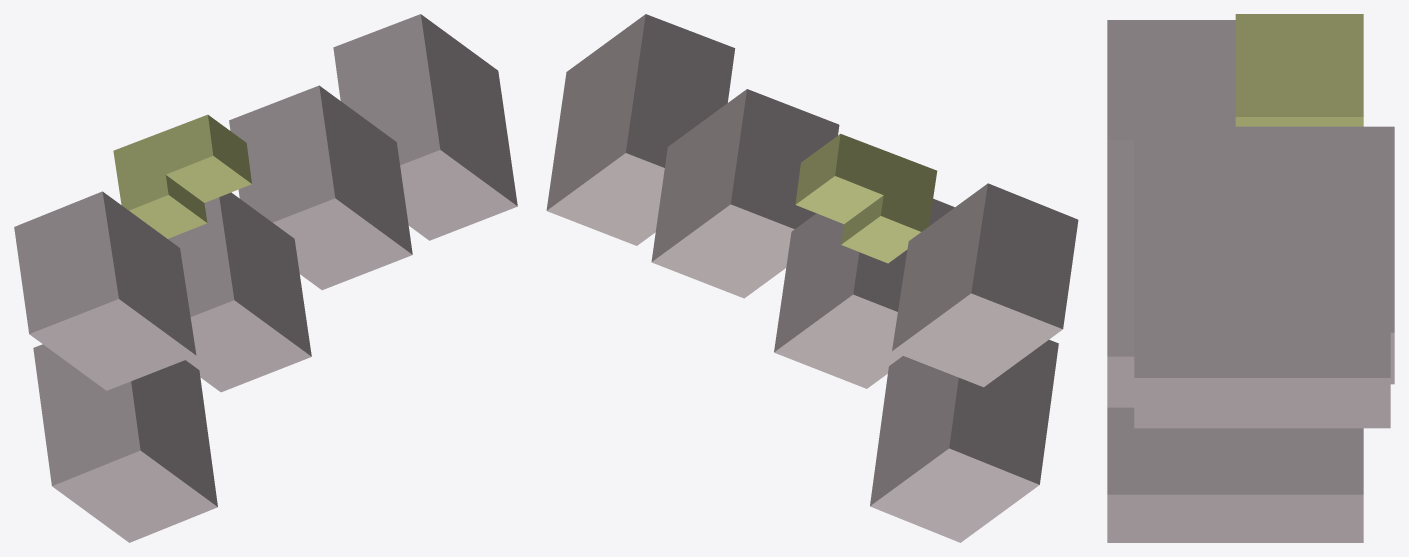
The picture shows the model from 3 angles, left to right: view 1: azimuth 30°, elevation 25°; view 2: azimuth 150°, elevation 25°; view 3: azimuth 270°, elevation 25°; orthographic projection. The views are drawn at different scales.
Visible parts, largest first — view 1: 0_1_3_2_2_2_2_1_1; view 2: 0_1_3_2_2_2_2_1_1; view 3: 0_1_3_2_2_2_2_1_1.
Boxes of the visible parts, x1,y1,x2,y2 form: 0_1_3_2_2_2_2_1_1: (14, 14, 517, 542); 0_1_3_2_2_2_2_1_1: (546, 14, 1078, 542); 0_1_3_2_2_2_2_1_1: (1107, 14, 1394, 542).
Bounding box in the file's own units: 38.83 × 31.97 × 13.45.
